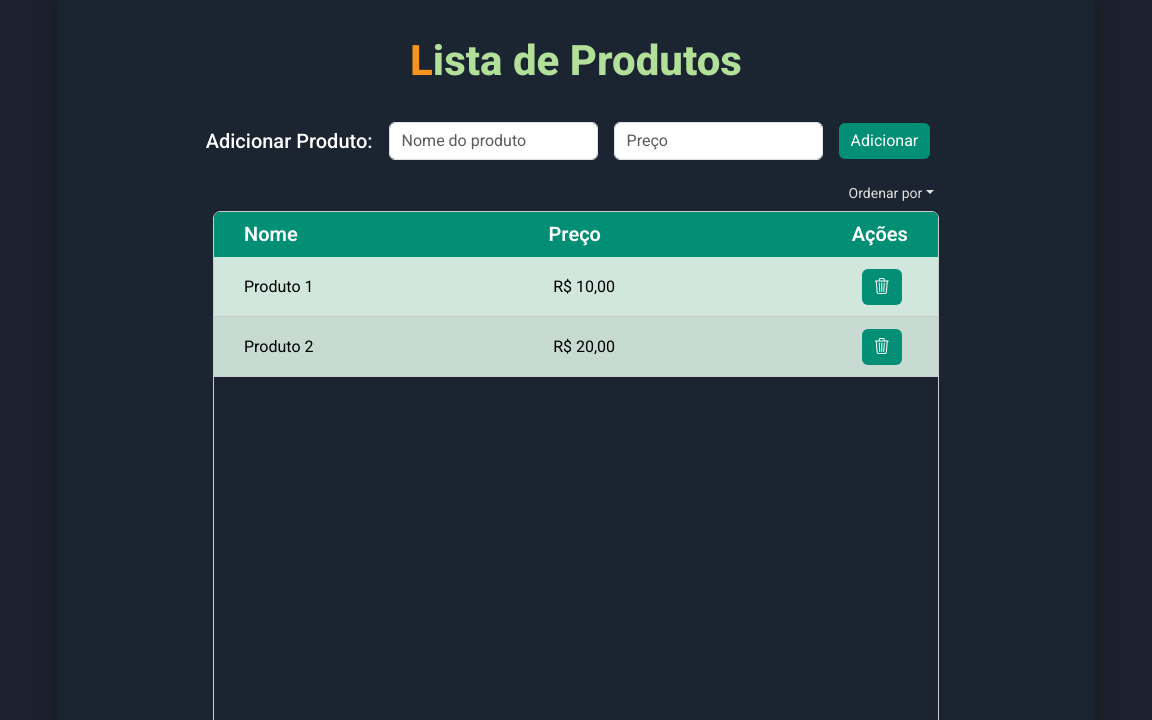
TabelaProdutos › Deve excluir um produto da lista ao clicar no botão de excluir
Expected: the text "Produto 1" is shown, [244,278,314,294]
Click the button with test id "btn-deletar-0" at (882,286), box [862,268,902,304]
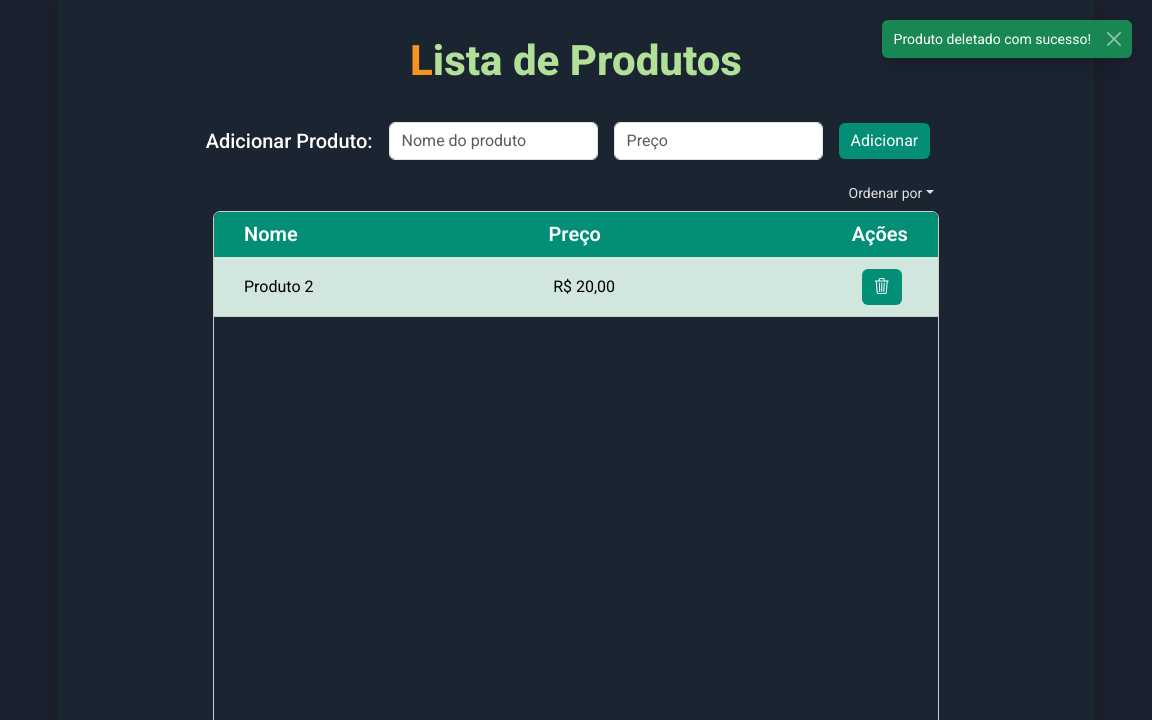
Result: the text "Produto 1" is gone
